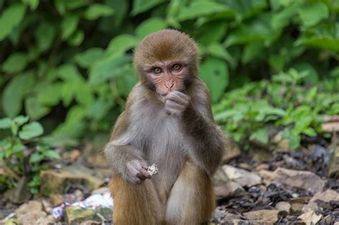monkey: (73, 22, 262, 208)
